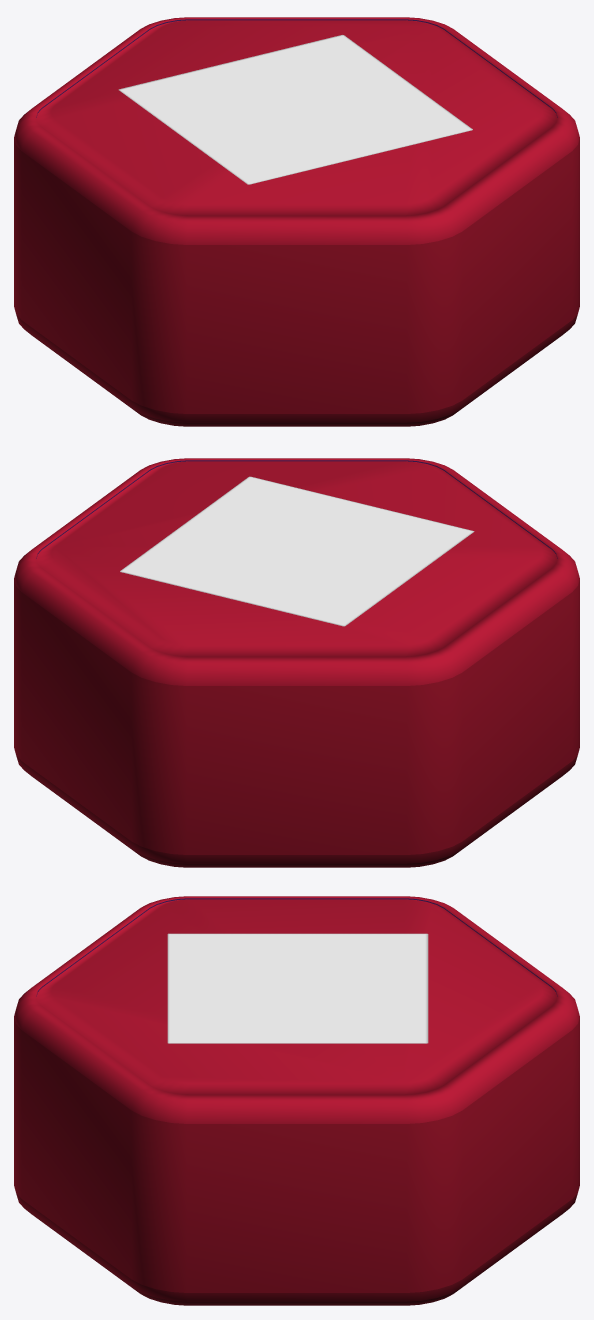
File: stop.fbx
3 renders of one model, top to bottom at view 1: azimuth 30°, elevation 25°; view 2: azimuth 150°, elevation 25°; view 3: azimuth 270°, elevation 25°, orthographic.
Visible parts, largest first — view 1: Cylinder.021, Plane.003; view 2: Cylinder.021, Plane.003; view 3: Cylinder.021, Plane.003.
Part boxes in pixels (<box>): Cylinder.021: <box>14,17,579,426</box>; Plane.003: <box>118,35,472,184</box>; Cylinder.021: <box>14,458,579,867</box>; Plane.003: <box>120,476,474,626</box>; Cylinder.021: <box>14,896,579,1305</box>; Plane.003: <box>167,933,428,1043</box>.
Bounding box in the file's own units: 170 × 79.72 × 189.
Materials: 2 (2 with a texture image).
